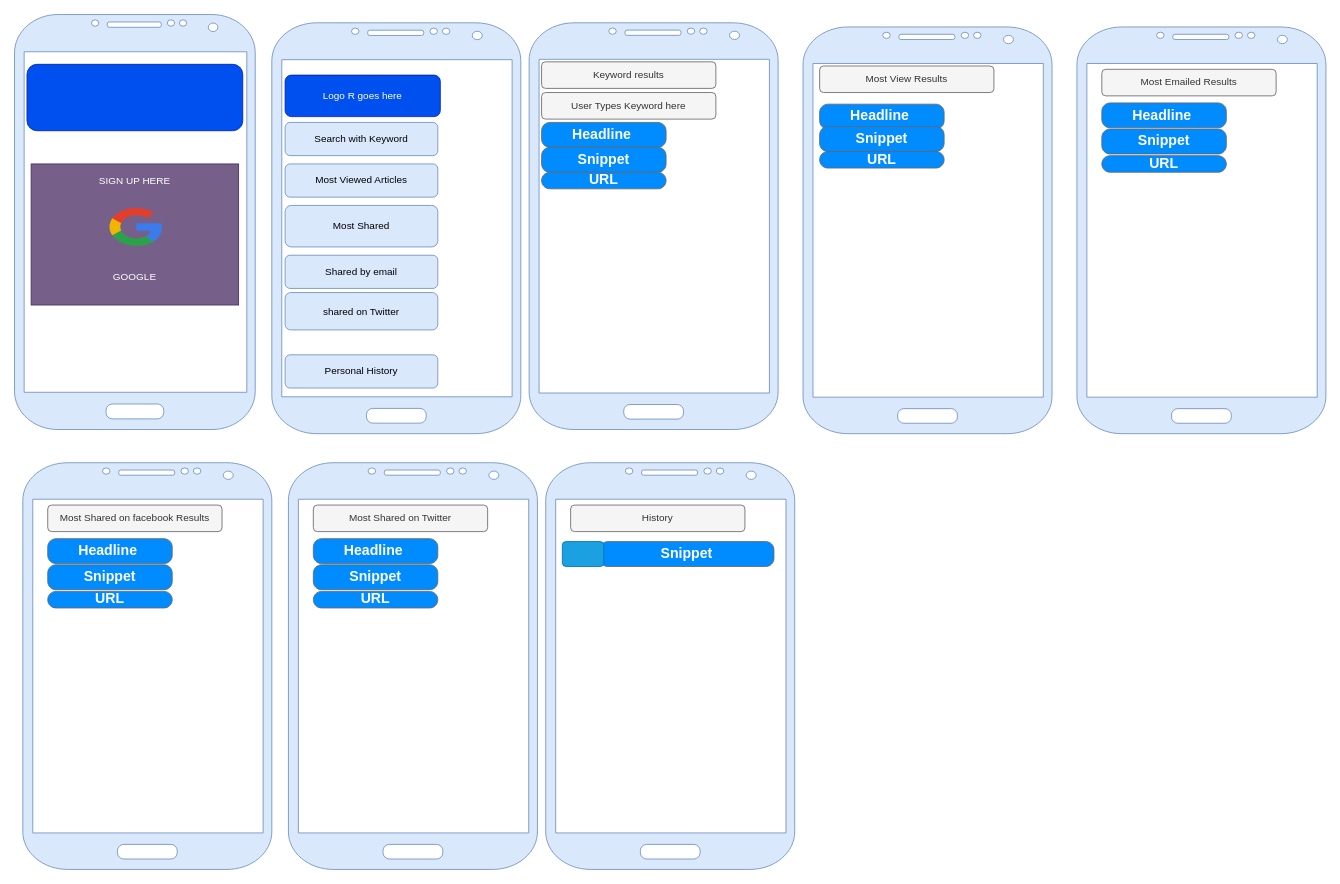
Some shapes in this 1340 by 884 pixel diagram are drawn without their labels. The shapes that lost their labels are listed below. From the top down, each one's centre as x and y in pixels, then its label:
(134,97): LOGO HERE
(582,553): date
